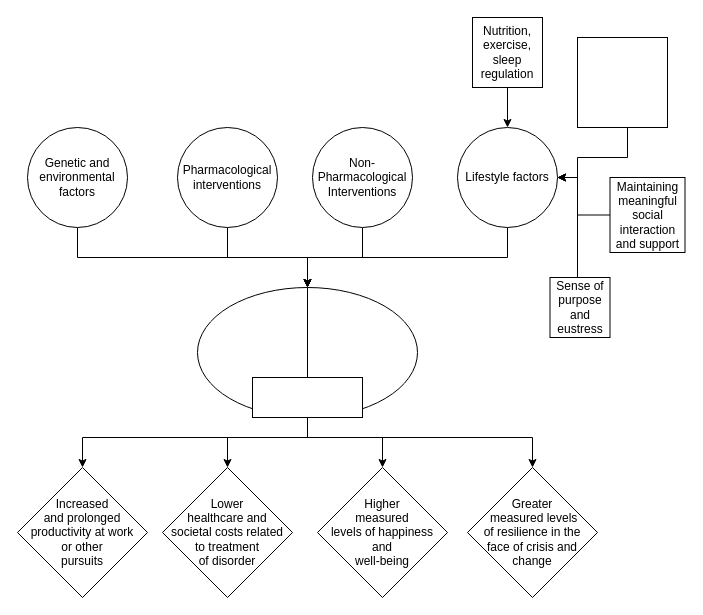
Image size: 703x615. Some labels were removed from this diagram. Here are the shapes that lost their labels. From the top down, the box of each, then its label:
(576, 36, 668, 128): Lack of negative habits like smoking and alcohol and drug abuse
(196, 286, 418, 418): Lack of disorder Peak b rain performance
(252, 376, 362, 418): Brain Health
